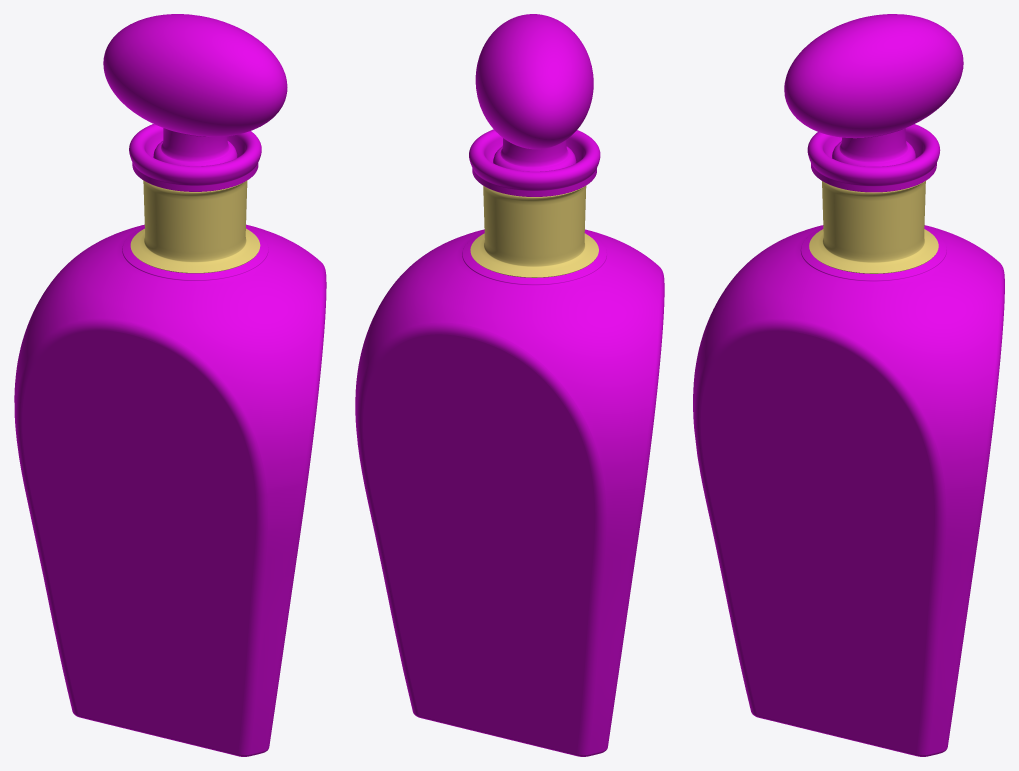
The model's file is bottleNoMat3.glb.
3 renders of one model, left to right at view 1: azimuth 30°, elevation 25°; view 2: azimuth 150°, elevation 25°; view 3: azimuth 270°, elevation 25°, orthographic.
Parts seen in each view (by area): view 1: botella-glengoyne, tapa-gleygoyne, botella-glengoyne-aro; view 2: botella-glengoyne, tapa-gleygoyne, botella-glengoyne-aro; view 3: botella-glengoyne, tapa-gleygoyne, botella-glengoyne-aro.
Boxes of the visible parts, box(x1,y1,x2,y2) form: botella-glengoyne: box(14, 124, 326, 756); tapa-gleygoyne: box(103, 14, 287, 166); botella-glengoyne-aro: box(130, 179, 260, 273); botella-glengoyne: box(355, 129, 664, 756); tapa-gleygoyne: box(475, 14, 593, 171); botella-glengoyne-aro: box(470, 185, 598, 277); botella-glengoyne: box(693, 124, 1004, 756); tapa-gleygoyne: box(784, 14, 963, 166); botella-glengoyne-aro: box(809, 180, 938, 273).
Bounding box in the file's own units: 0.995 × 2.24 × 0.9195.
